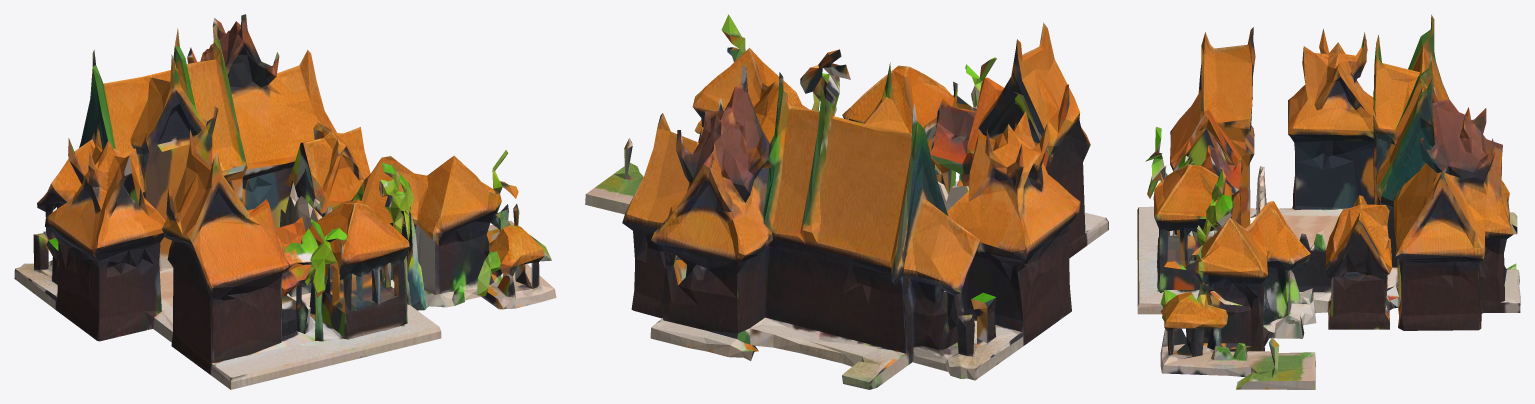
Rendered from ayutthaya_centro.glb.
3 renders of one model, left to right at view 1: azimuth 30°, elevation 25°; view 2: azimuth 150°, elevation 25°; view 3: azimuth 270°, elevation 25°, orthographic. The views are drawn at different scales.
Parts seen in each view (by area): view 1: geometry_0; view 2: geometry_0; view 3: geometry_0.
Part boxes in pixels (box(x1,y1,x2,y2)): geometry_0: box(14, 14, 556, 389); geometry_0: box(585, 14, 1108, 389); geometry_0: box(1137, 14, 1520, 389).
Bounding box in the file's own units: 3.4 × 1.71 × 2.77.
1 material, 1 textured.
